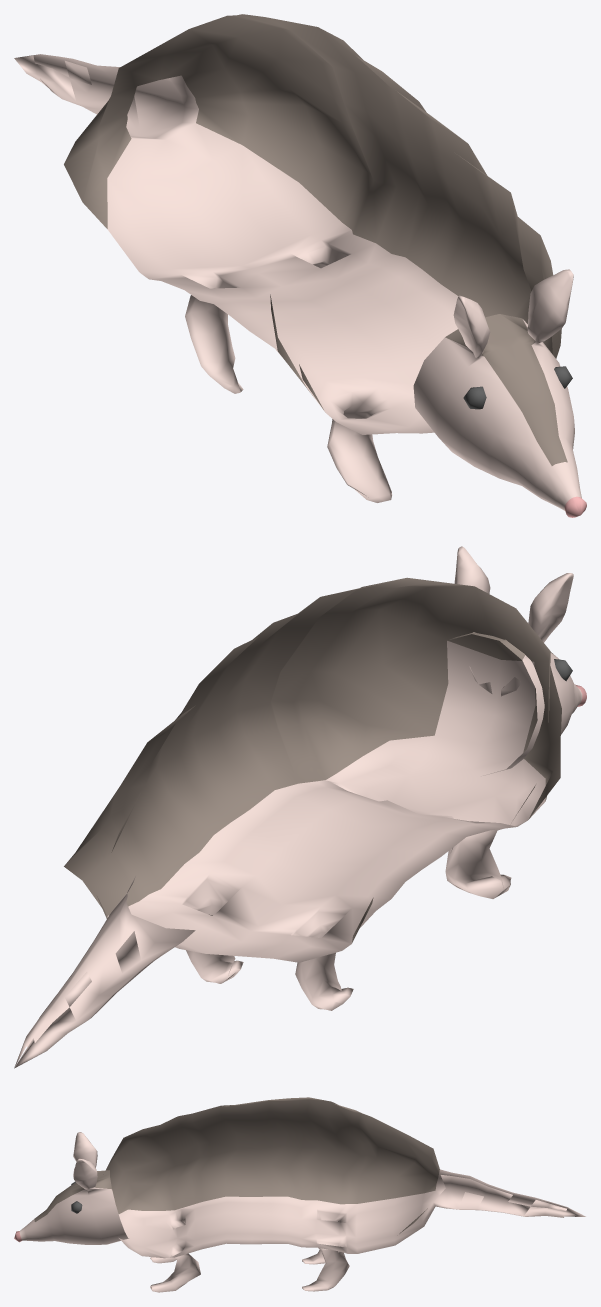
3 views of the same model, one above another, from view 1: azimuth 30°, elevation 25°; view 2: azimuth 150°, elevation 25°; view 3: azimuth 270°, elevation 25° (orthographic). The views are drawn at different scales.
Visible parts, largest first — view 1: Symmetry.1; view 2: Symmetry.1; view 3: Symmetry.1.
Boxes of the visible parts, <box> form: Symmetry.1: <box>14,14,586,517</box>; Symmetry.1: <box>14,546,586,1068</box>; Symmetry.1: <box>14,1097,585,1292</box>.
Size of the model in its own units: 176 by 233 by 674.
